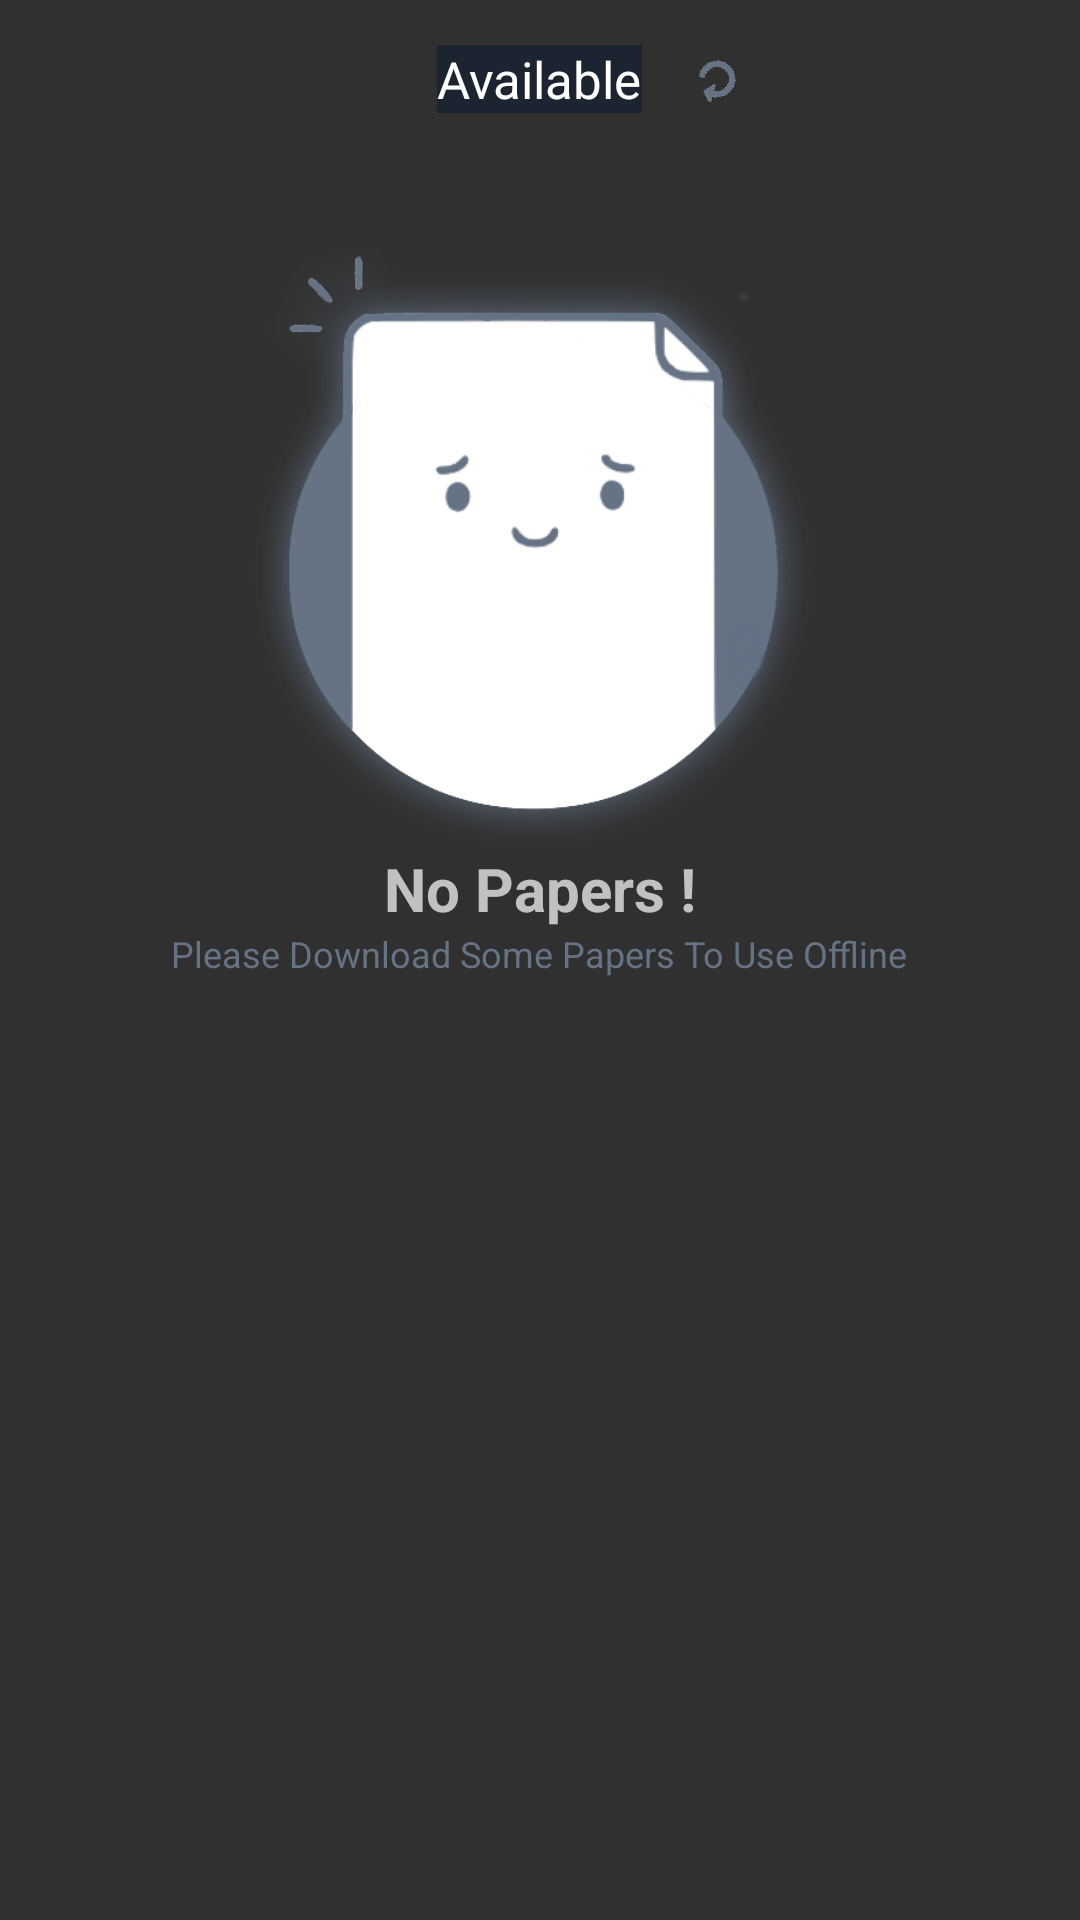

Where to tap for icons on this 1080x1920 app screen, as (x=x, y=y):
refresh: (x=717, y=81)
